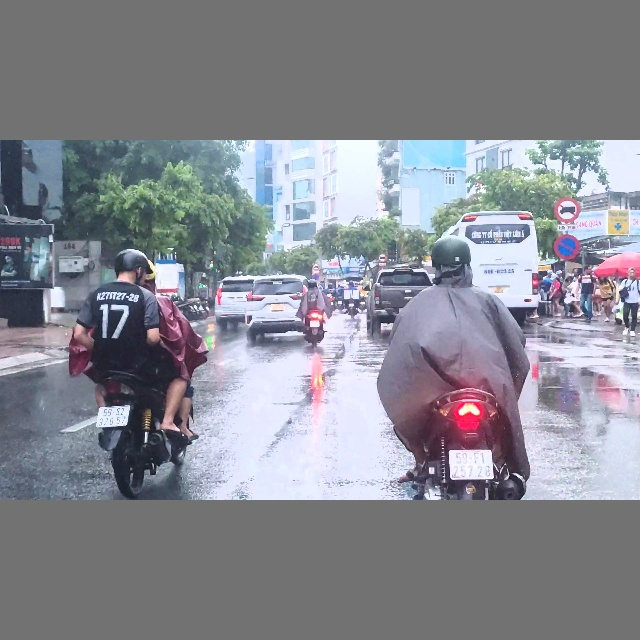P.106a*Xe tai: (554, 197, 581, 224), (378, 253, 387, 262), (313, 263, 319, 271)
P.131a: (554, 232, 581, 260)
